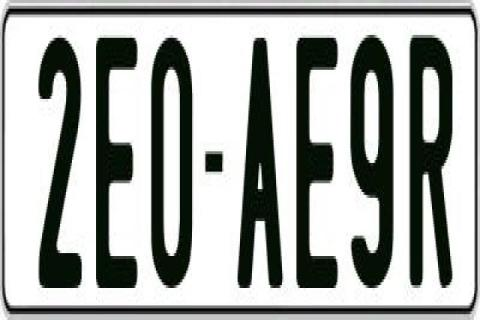0: (36, 29, 82, 297), (351, 29, 395, 282), (149, 35, 191, 288)
A: (237, 38, 286, 300)
E: (94, 38, 142, 297), (292, 32, 334, 288)
R: (406, 35, 450, 305)
